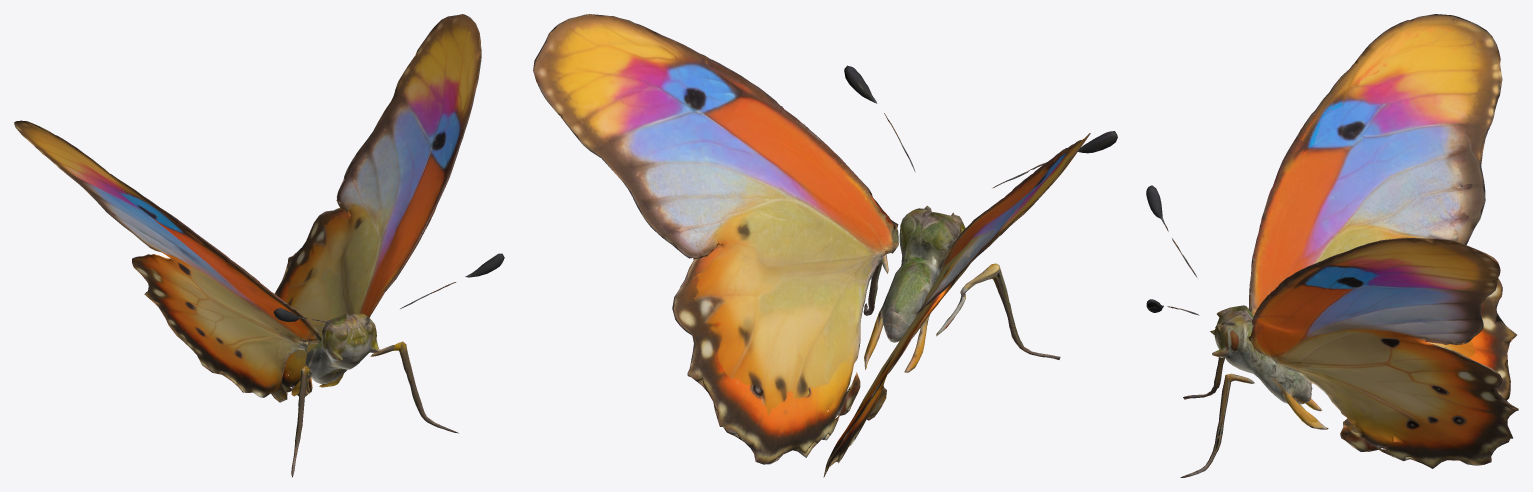
Rendered from mariposa.glb.
3 renders of one model, left to right at view 1: azimuth 30°, elevation 25°; view 2: azimuth 150°, elevation 25°; view 3: azimuth 270°, elevation 25°, orthographic. The views are drawn at different scales.
Bounding box in the file's own units: 1.96 × 1.36 × 1.37.
1 material, 1 textured.
